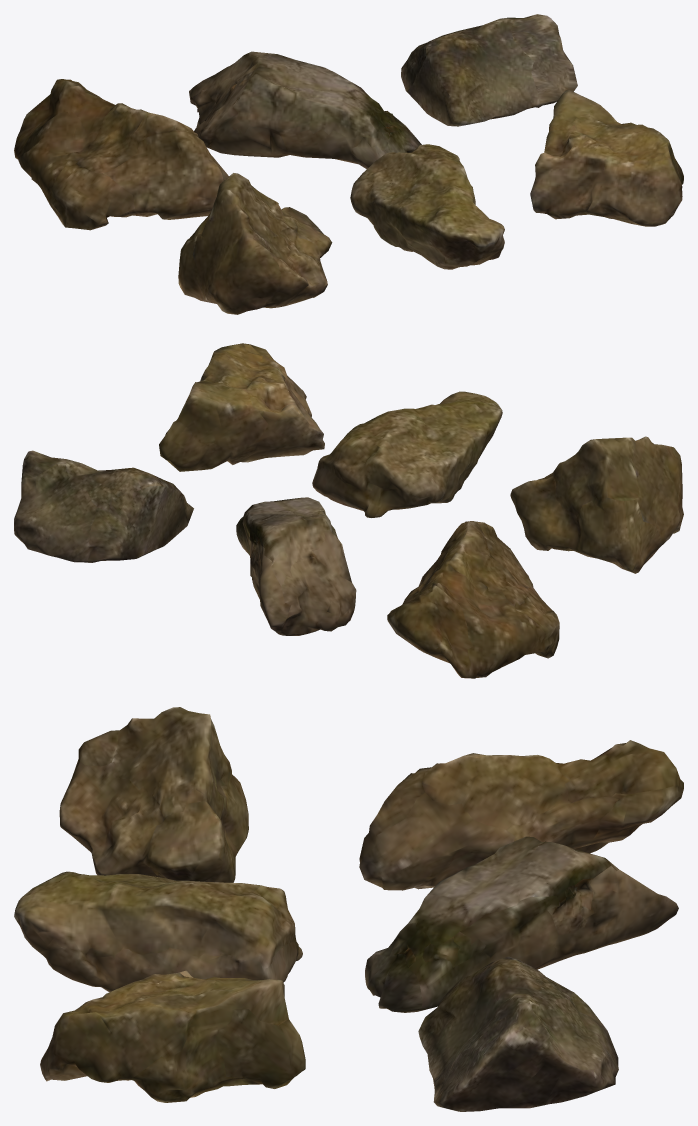
Rendered from rock_moss_set_01.glb.
The picture shows the model from 3 angles, top to bottom: view 1: azimuth 30°, elevation 25°; view 2: azimuth 150°, elevation 25°; view 3: azimuth 270°, elevation 25°; orthographic projection. The views are drawn at different scales.
Visible parts, largest first — view 1: rock_moss_set_01_rock01, rock_moss_set_01_rock02, rock_moss_set_01_rock06, rock_moss_set_01_rock04, rock_moss_set_01_rock03, rock_moss_set_01_rock05; view 2: rock_moss_set_01_rock04, rock_moss_set_01_rock01, rock_moss_set_01_rock05, rock_moss_set_01_rock03, rock_moss_set_01_rock06, rock_moss_set_01_rock02; view 3: rock_moss_set_01_rock01, rock_moss_set_01_rock02, rock_moss_set_01_rock05, rock_moss_set_01_rock04, rock_moss_set_01_rock06, rock_moss_set_01_rock03.
Boxes of the visible parts, x1,y1,x2,y2 form: rock_moss_set_01_rock01: (14, 79, 228, 230); rock_moss_set_01_rock02: (189, 51, 421, 169); rock_moss_set_01_rock06: (530, 89, 683, 226); rock_moss_set_01_rock04: (178, 173, 332, 314); rock_moss_set_01_rock03: (401, 14, 577, 126); rock_moss_set_01_rock05: (350, 144, 504, 269); rock_moss_set_01_rock04: (510, 436, 683, 573); rock_moss_set_01_rock01: (387, 521, 559, 678); rock_moss_set_01_rock05: (312, 391, 502, 517); rock_moss_set_01_rock03: (14, 450, 193, 562); rock_moss_set_01_rock06: (159, 343, 324, 471); rock_moss_set_01_rock02: (236, 497, 356, 635); rock_moss_set_01_rock01: (359, 740, 683, 890); rock_moss_set_01_rock02: (365, 836, 678, 1012); rock_moss_set_01_rock05: (14, 871, 302, 991); rock_moss_set_01_rock04: (59, 707, 248, 882); rock_moss_set_01_rock06: (40, 970, 305, 1102); rock_moss_set_01_rock03: (418, 956, 618, 1111).
Size of the model in its own units: 8 by 1.76 by 6.94.
Materials: 1 (1 with a texture image).
